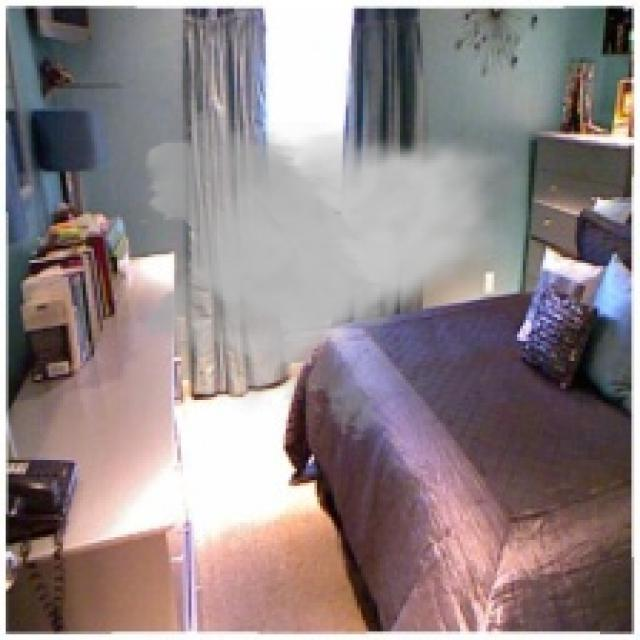smoke: (135, 97, 514, 443)
